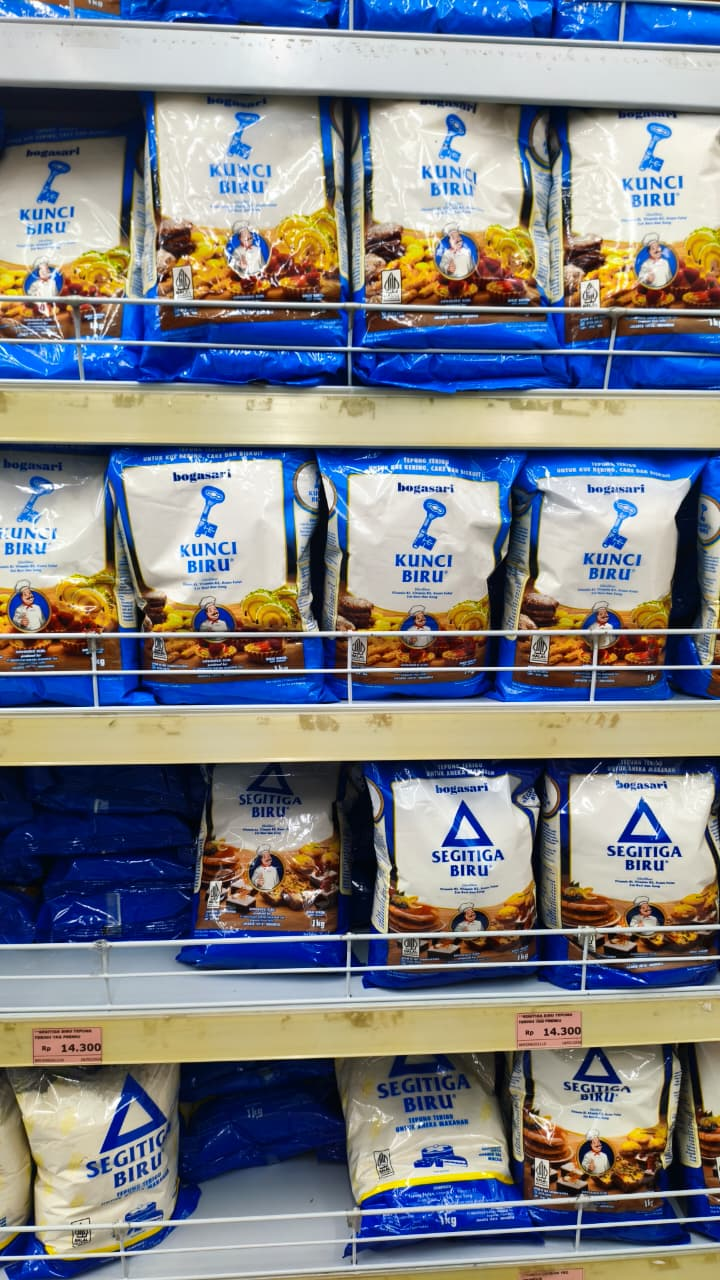Kunci Biru: (151, 80, 328, 234), (346, 455, 492, 620), (138, 451, 284, 616), (540, 451, 686, 616), (574, 98, 720, 263)
Segitiga Biru: (374, 758, 525, 938), (562, 752, 713, 932)
